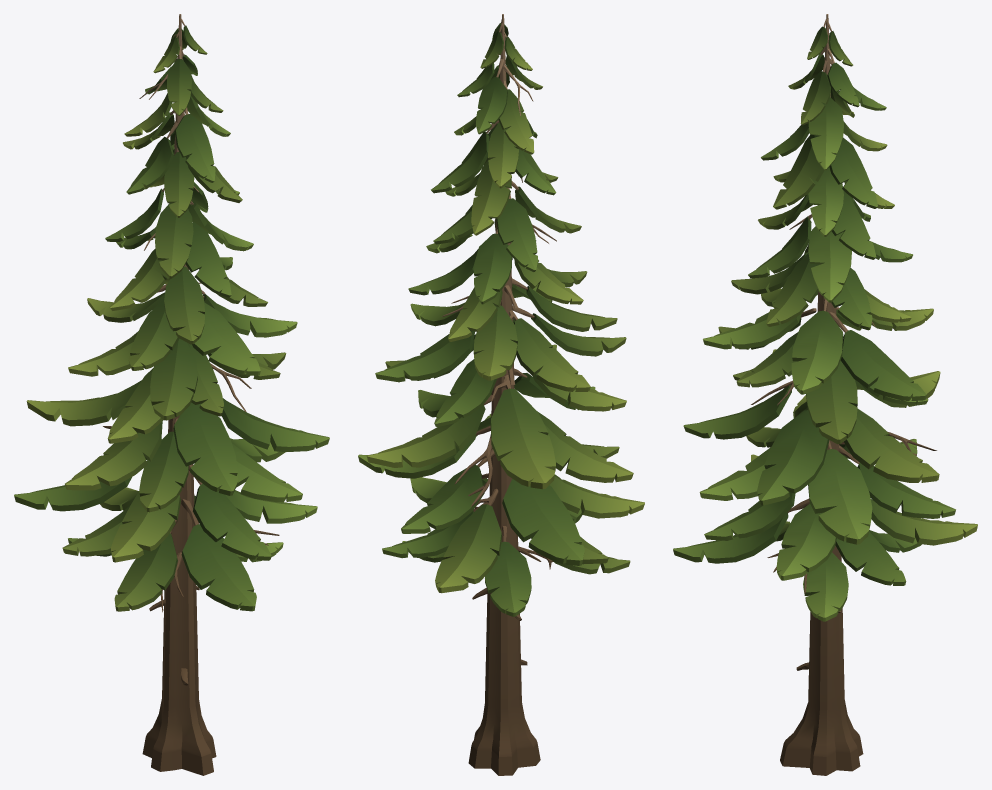
File: Tree_05.fbx
3 renders of one model, left to right at view 1: azimuth 30°, elevation 25°; view 2: azimuth 150°, elevation 25°; view 3: azimuth 270°, elevation 25°, orthographic.
Visible parts, largest first — view 1: Tree_05_LOD0; view 2: Tree_05_LOD0; view 3: Tree_05_LOD0.
Boxes of the visible parts, left/top/right/bottom form: Tree_05_LOD0: left=14, top=14, right=329, bottom=775; Tree_05_LOD0: left=358, top=14, right=644, bottom=775; Tree_05_LOD0: left=673, top=14, right=977, bottom=775.
Size of what is drawn, in the model's own units: 4.61 by 13.01 by 4.82.
